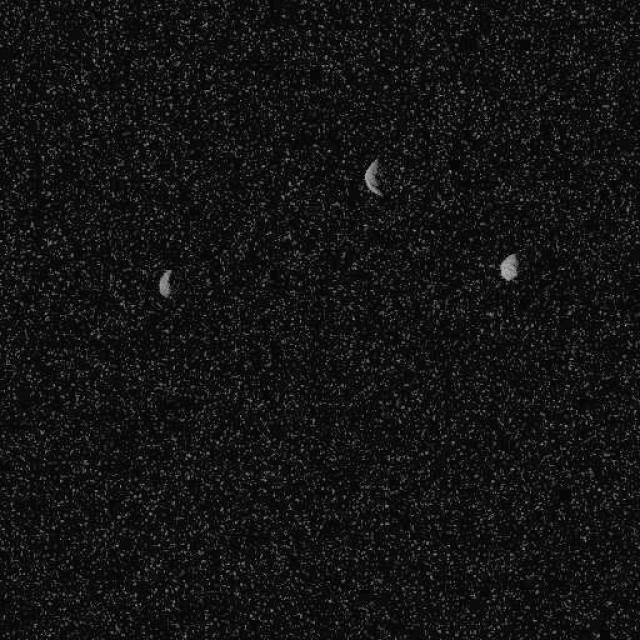D2: (362, 158, 383, 198), (498, 252, 518, 282), (156, 268, 174, 298)
